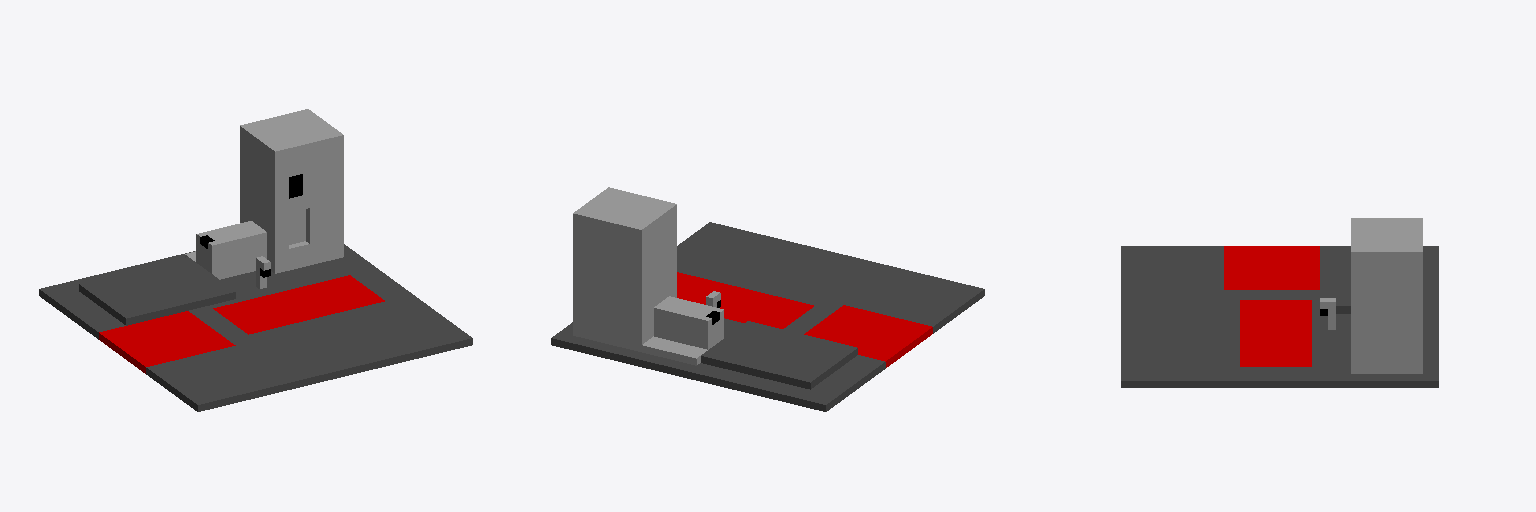
The picture shows the model from 3 angles: view 1: azimuth 30°, elevation 25°; view 2: azimuth 150°, elevation 25°; view 3: azimuth 270°, elevation 25°; orthographic projection.
Parts seen in each view (by area): view 1: object 1; view 2: object 1; view 3: object 1.
Part boxes in pixels (x1,y1,x2,y2): object 1: (39, 109, 472, 411); object 1: (551, 187, 984, 411); object 1: (1121, 218, 1438, 387).
Size of the model in its own units: 4 by 1.8 by 4.
Materials: 1 (1 with a texture image).